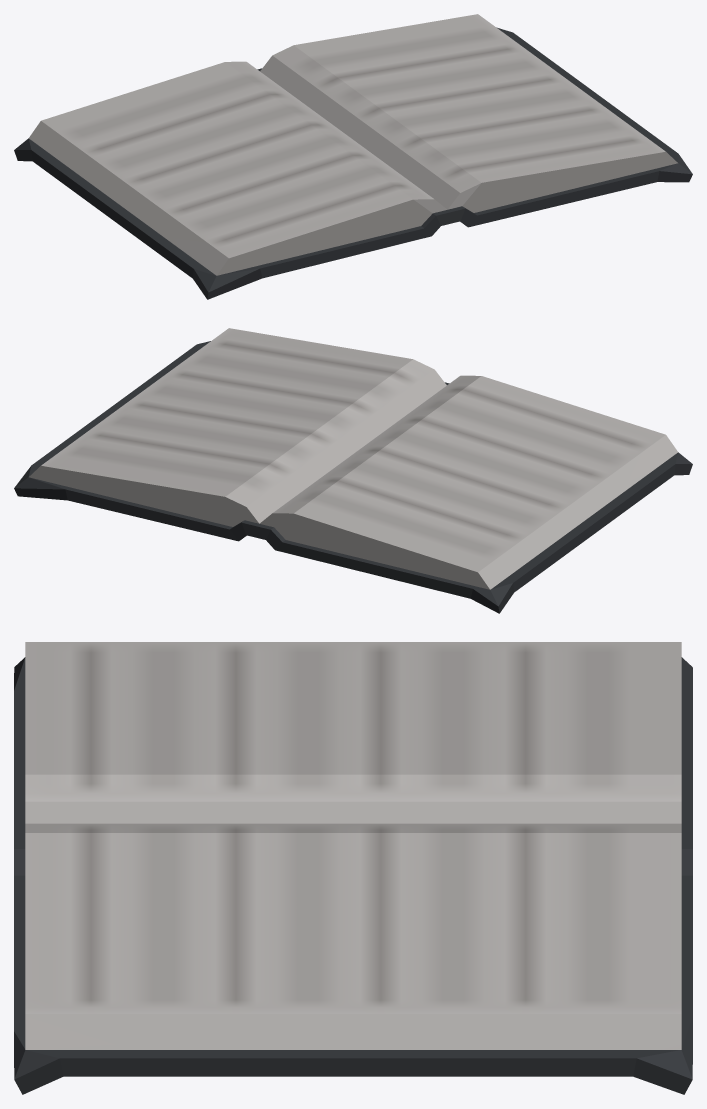
The model's file is SM_Item_Book_01.fbx.
The picture shows the model from 3 angles, top to bottom: view 1: azimuth 30°, elevation 25°; view 2: azimuth 150°, elevation 25°; view 3: azimuth 270°, elevation 25°; orthographic projection. The views are drawn at different scales.
Visible parts, largest first — view 1: SM_Item_Book_01; view 2: SM_Item_Book_01; view 3: SM_Item_Book_01.
Part boxes in pixels (x1=…): SM_Item_Book_01: x1=14, y1=14, x2=692, y2=299; SM_Item_Book_01: x1=14, y1=328, x2=692, y2=613; SM_Item_Book_01: x1=14, y1=642, x2=692, y2=1094.
Bounding box in the file's own units: 24.15 × 2.35 × 16.8.
